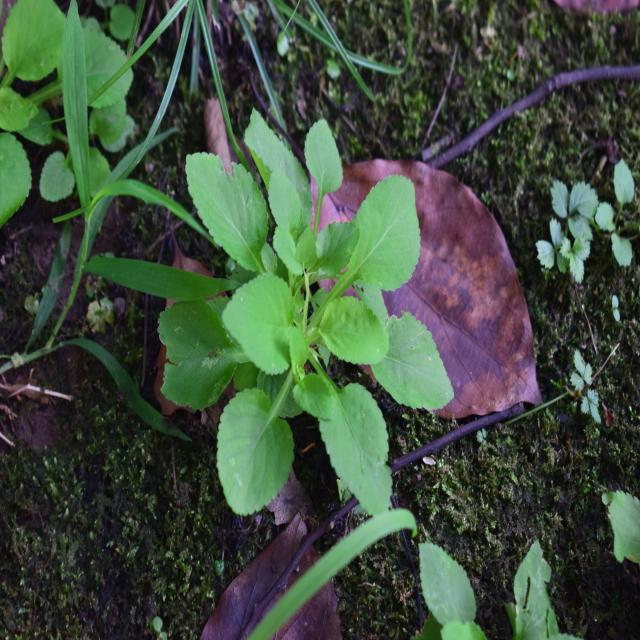Viola: (193, 141, 440, 501)
